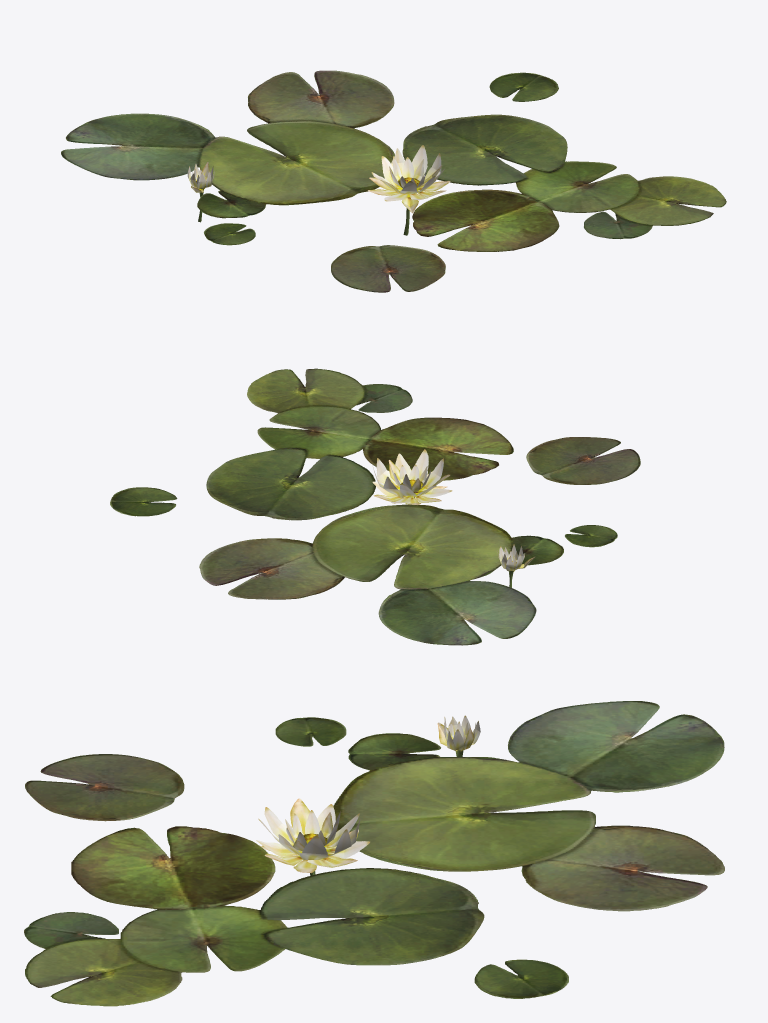
Rendered from bg_anh_foliage_el_u20_sm_old.FBX.
The picture shows the model from 3 angles, top to bottom: view 1: azimuth 30°, elevation 25°; view 2: azimuth 150°, elevation 25°; view 3: azimuth 270°, elevation 25°; orthographic projection. The views are drawn at different scales.
Parts seen in each view (by area): view 1: bg_anh_foliage_el_u20_sm_old; view 2: bg_anh_foliage_el_u20_sm_old; view 3: bg_anh_foliage_el_u20_sm_old.
Boxes of the visible parts, x1,y1,x2,y2 form: bg_anh_foliage_el_u20_sm_old: [61, 70, 726, 292]; bg_anh_foliage_el_u20_sm_old: [110, 368, 640, 645]; bg_anh_foliage_el_u20_sm_old: [24, 701, 724, 1006].
Bounding box in the file's own units: 128 × 19.98 × 128.
